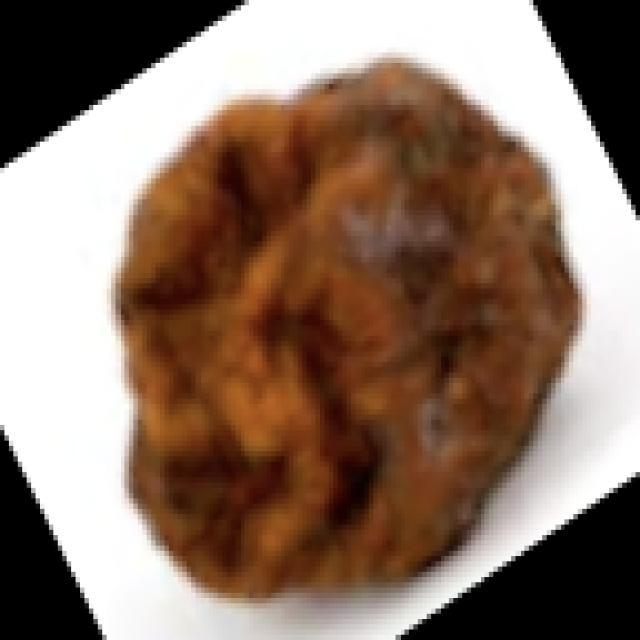sangat-busuk: (115, 59, 580, 598)
